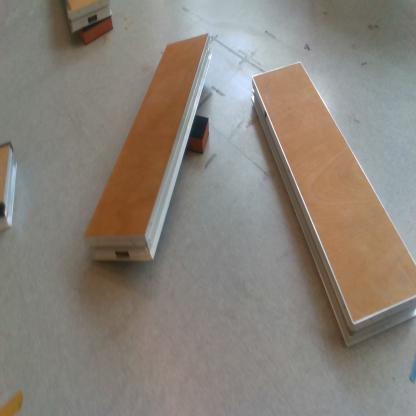Stairs: (251, 60, 416, 352), (84, 35, 213, 264), (63, 1, 112, 32), (1, 145, 18, 234)
